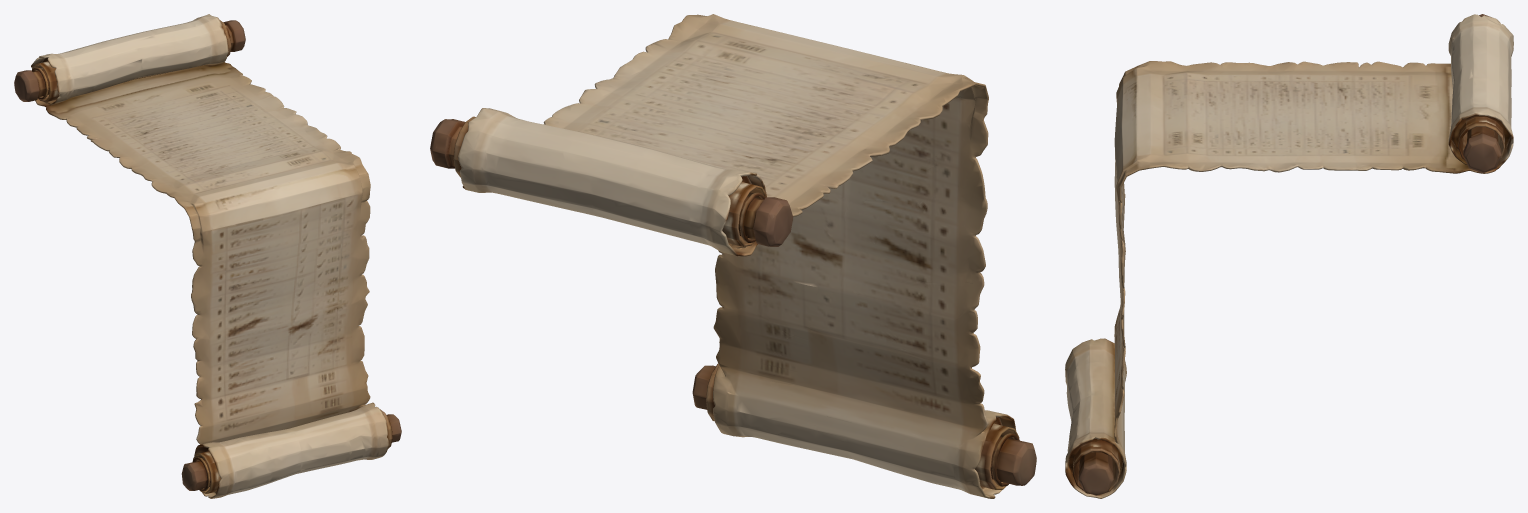
The model's file is draped_scroll.glb.
The picture shows the model from 3 angles, left to right: view 1: azimuth 30°, elevation 25°; view 2: azimuth 150°, elevation 25°; view 3: azimuth 270°, elevation 25°; orthographic projection. The views are drawn at different scales.
Parts seen in each view (by area): view 1: node_0; view 2: node_0; view 3: node_0.
Part boxes in pixels (x1=…): node_0: x1=14, y1=14, x2=401, y2=498; node_0: x1=430, y1=14, x2=1036, y2=498; node_0: x1=1065, y1=14, x2=1513, y2=498.
Bounding box in the file's own units: 0.5685 × 0.8008 × 0.8438.
1 material, 1 textured.
